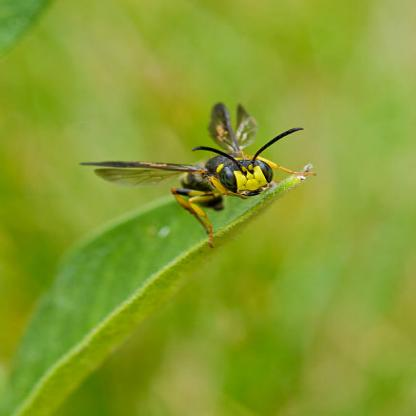sawfly: (84, 101, 320, 250)
